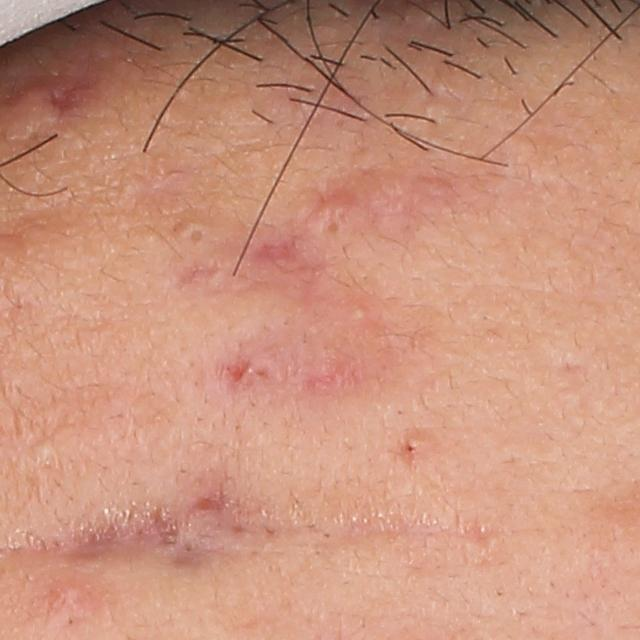comedo: (28, 433, 57, 462), (396, 433, 423, 461), (185, 224, 211, 245), (325, 215, 345, 237)
